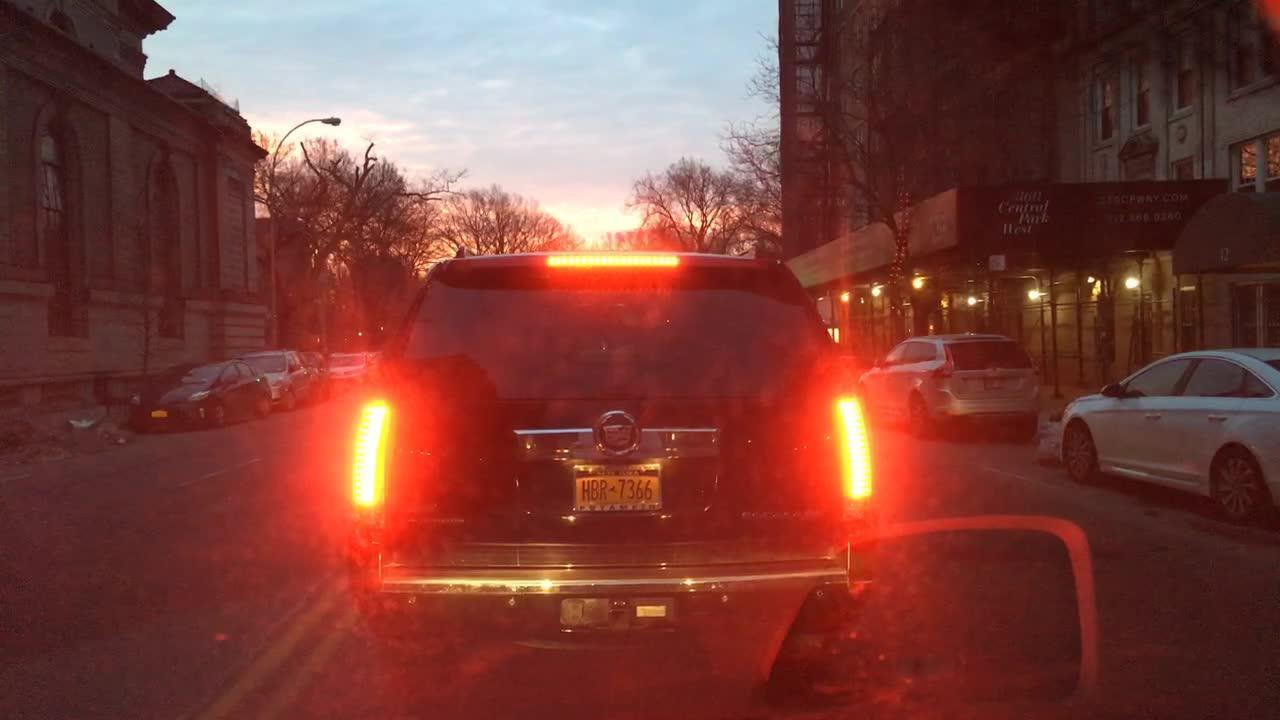cadillac: (589, 400, 654, 462)
